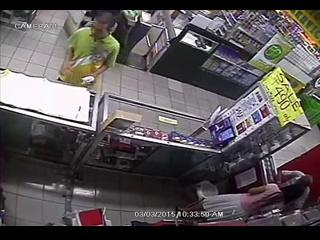Normal: (57, 12, 121, 87)
